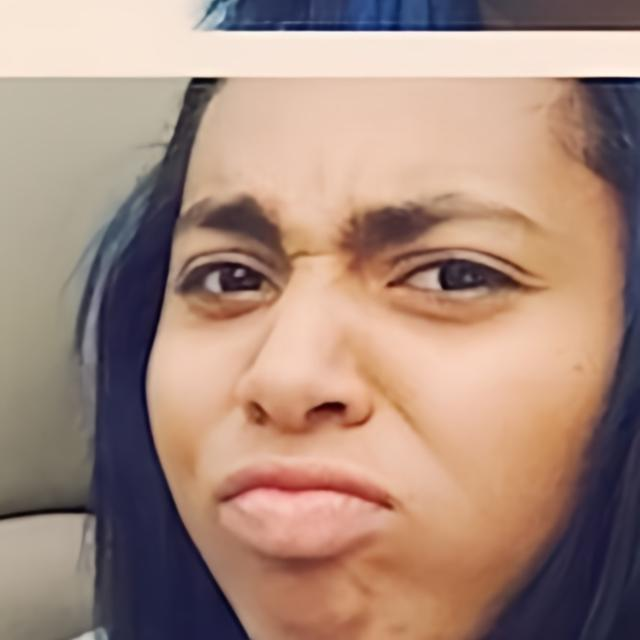disgust: (142, 82, 621, 640)
